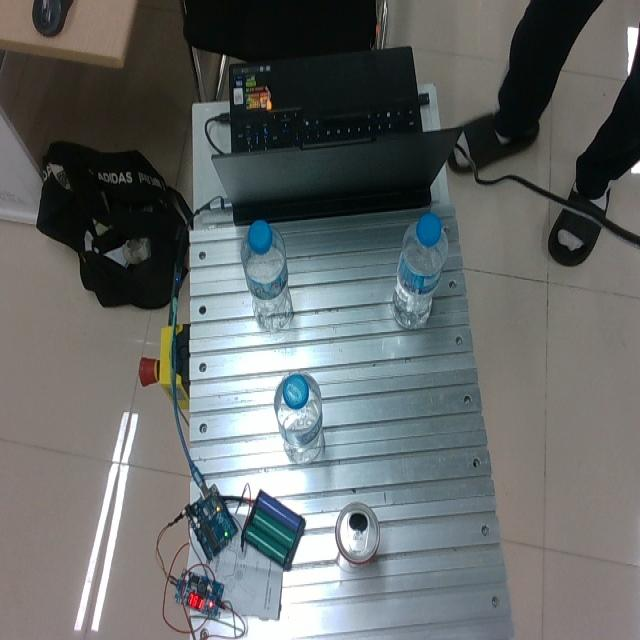coca: (335, 501, 379, 568)
lavie: (391, 213, 447, 329), (241, 220, 292, 332), (274, 371, 324, 464)
